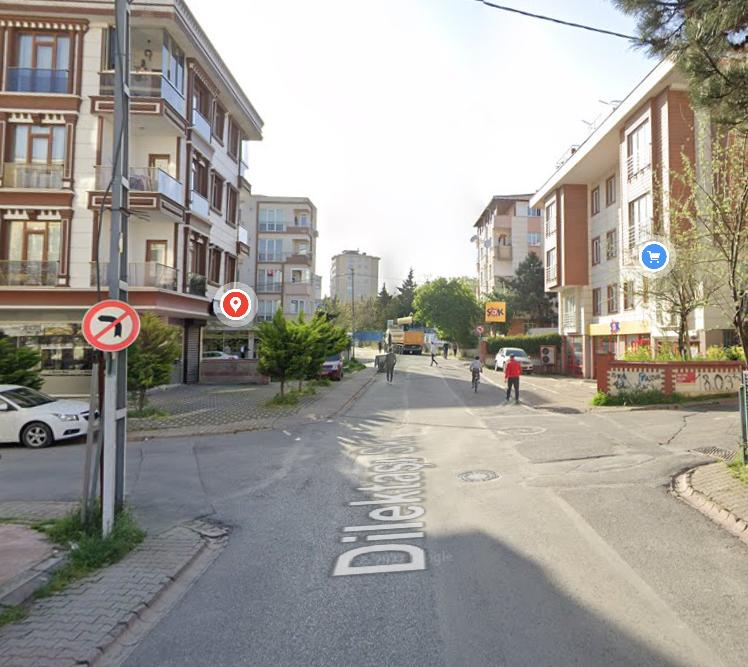leftturnsareforbidden: (86, 301, 137, 347)
